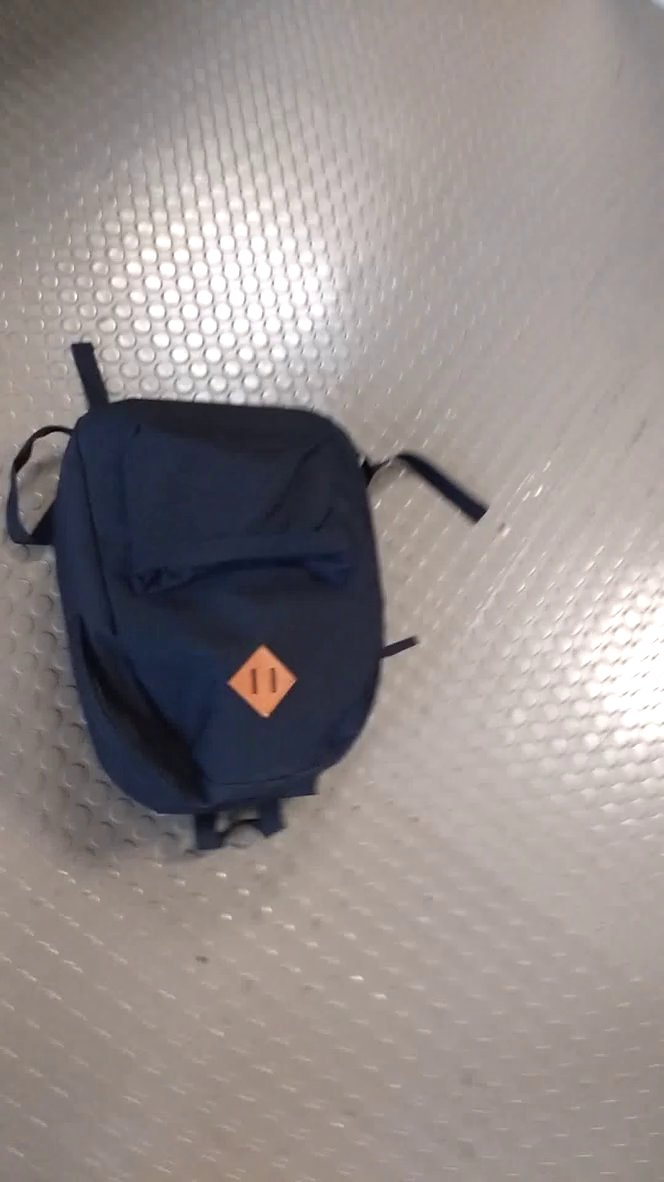bag: (6, 319, 504, 859)
